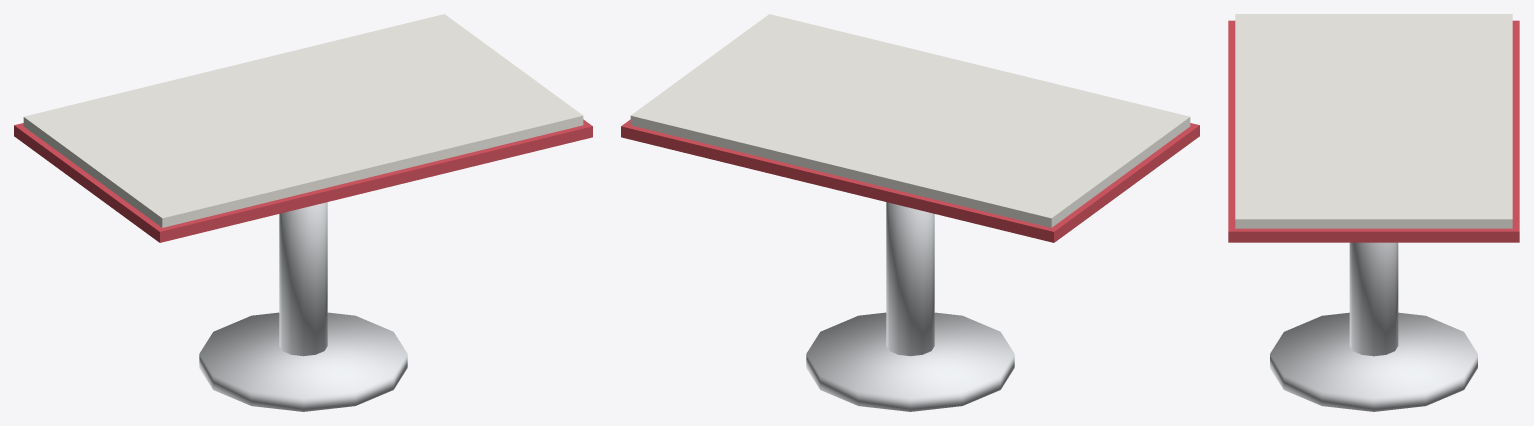
The model's file is diner_table.glb.
3 views of the same model, side by side, from view 1: azimuth 30°, elevation 25°; view 2: azimuth 150°, elevation 25°; view 3: azimuth 270°, elevation 25° (orthographic).
Visible parts, largest first — view 1: DinerTable; view 2: DinerTable; view 3: DinerTable.
Boxes of the visible parts, box(x1,y1,x2,y2) form: DinerTable: box(14, 14, 592, 411); DinerTable: box(621, 14, 1199, 411); DinerTable: box(1228, 14, 1519, 411).
Size of the model in its own units: 1.44 by 0.8 by 0.84.
